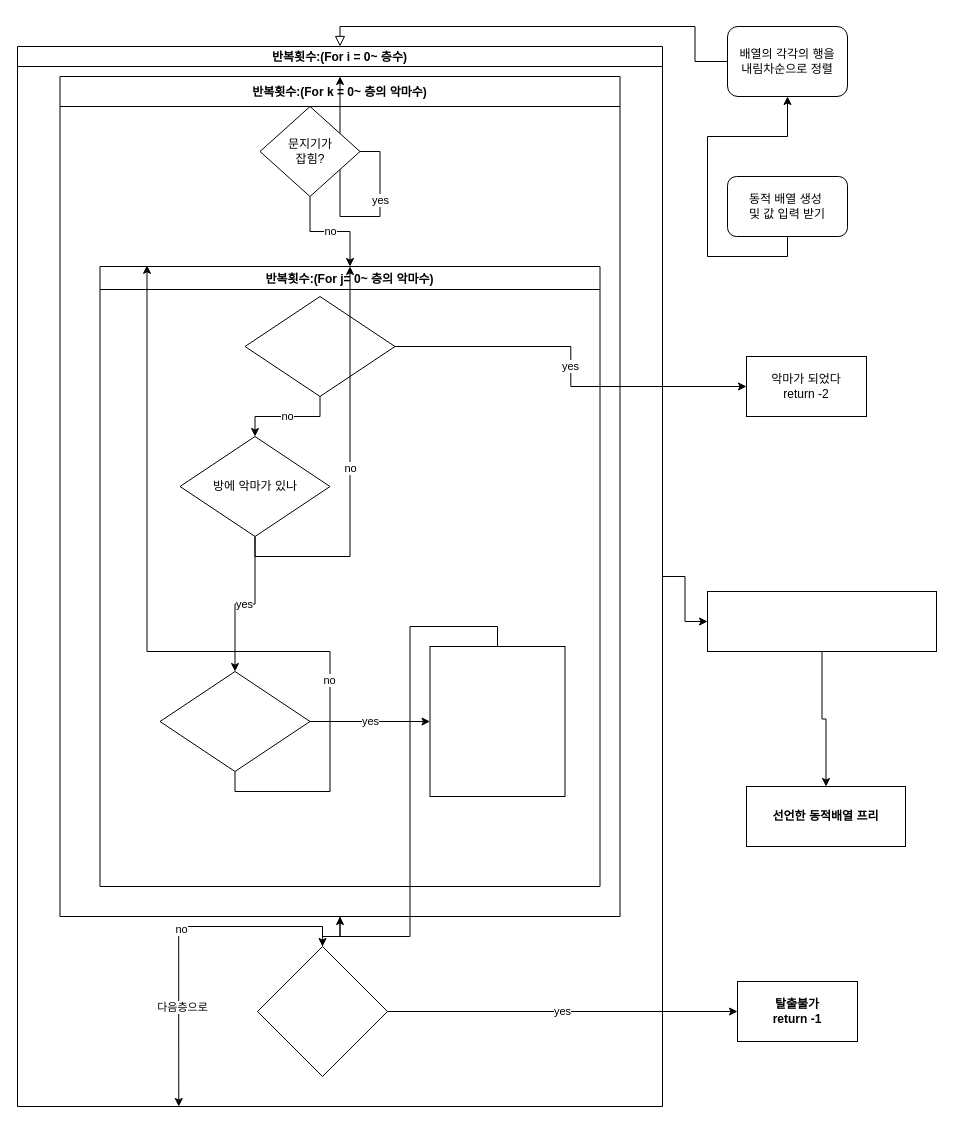
The diagram is 954 pixels wide and 1132 high, and some of its shapes have lost their labels. The centre of each missing label's shape, as x and y in pixels:
"내힘이 악마보다 쏀가" goes at pixel 234 721.
"대마왕 잡음 현재 래벨과 현재 힘 출력" goes at pixel 821 621.
"문지기가 있음?" goes at pixel 322 1011.
"악마의 힘에 먹혔는가" goes at pixel 319 346.
"잡은 악마 출력 악마힘 흡수 레벨업 해당배열에서 악마 삭제" goes at pixel 497 721.
